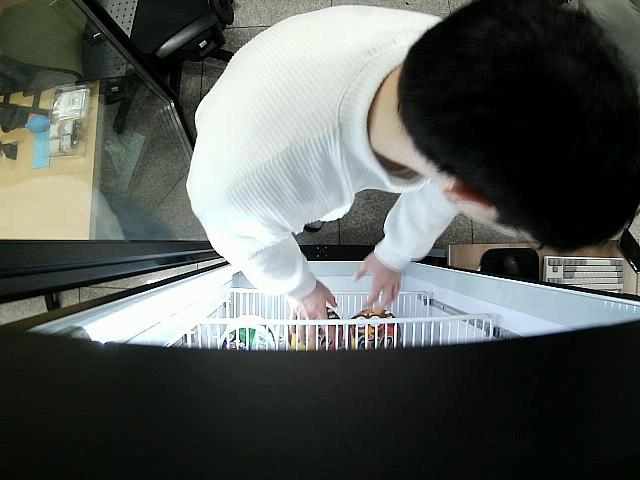00_hand: (287, 281, 338, 345), (353, 254, 403, 314)
05_nuguri_L: (288, 307, 343, 349)
